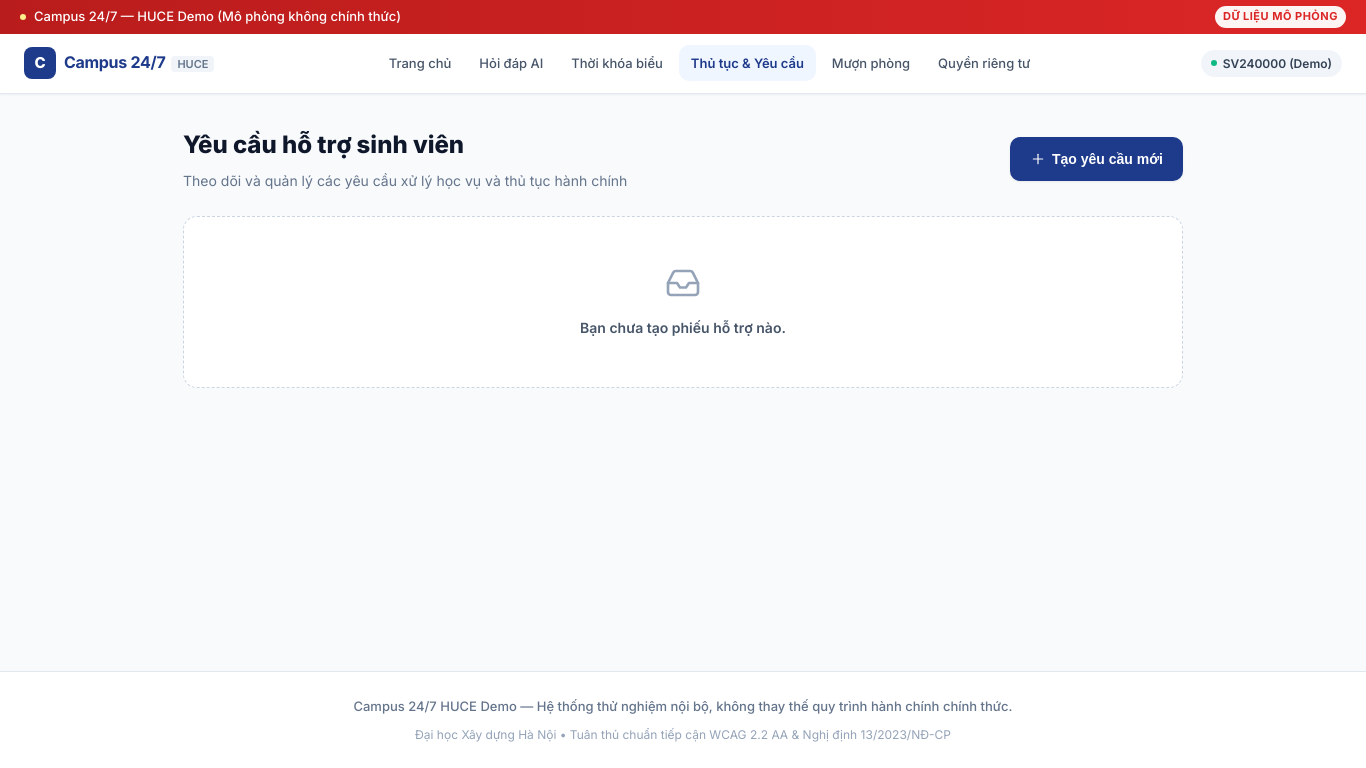
TicketsPage Component - Fail Honestly (TASK-WEB-TICK-003) › authoritative success renders real ticket from server response
This screenshot has width=1366, height=768.
Click the button "Tạo yêu cầu mới" at {"x": 1096, "y": 159}, box [1010, 137, 1183, 181]
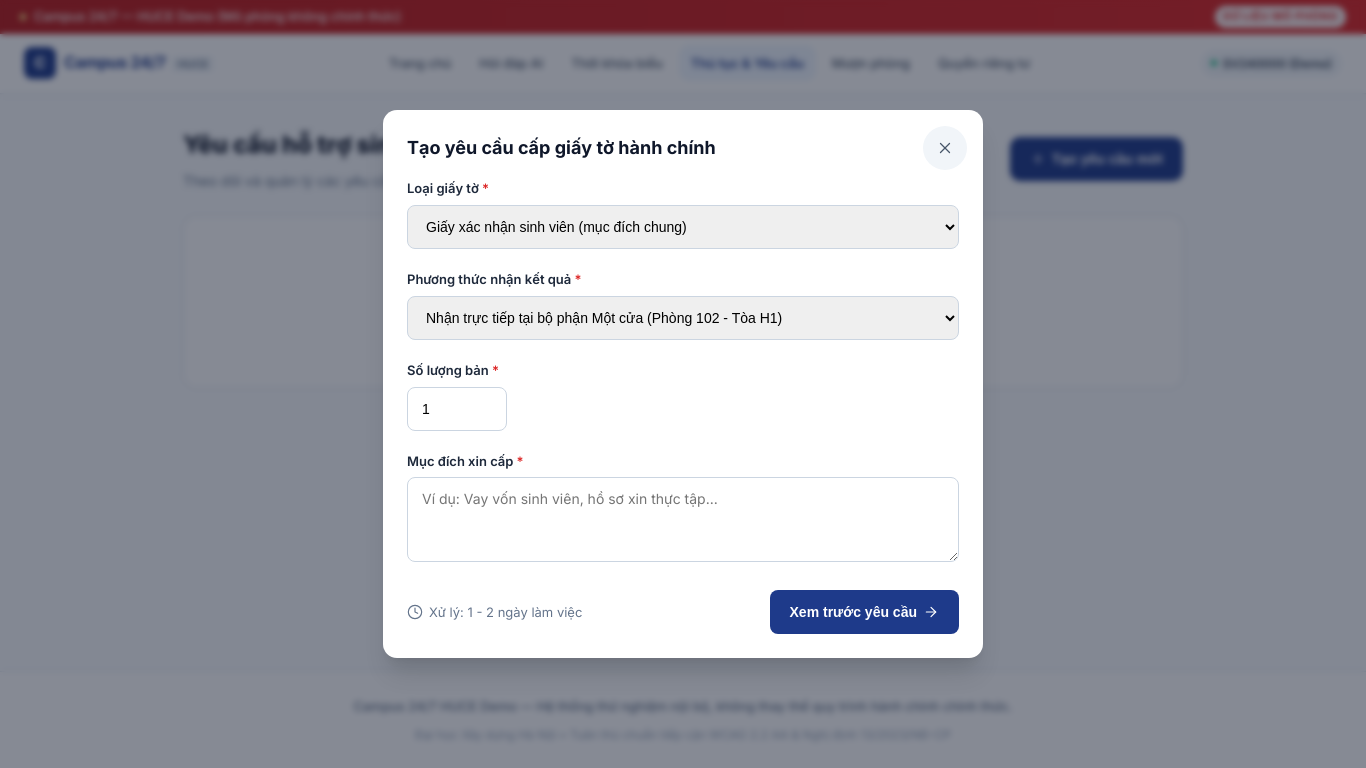
Type "Làm thẻ căn cước" into the text box labelled "Mục đích xin cấp *" at {"x": 683, "y": 520}, box [407, 478, 959, 562]
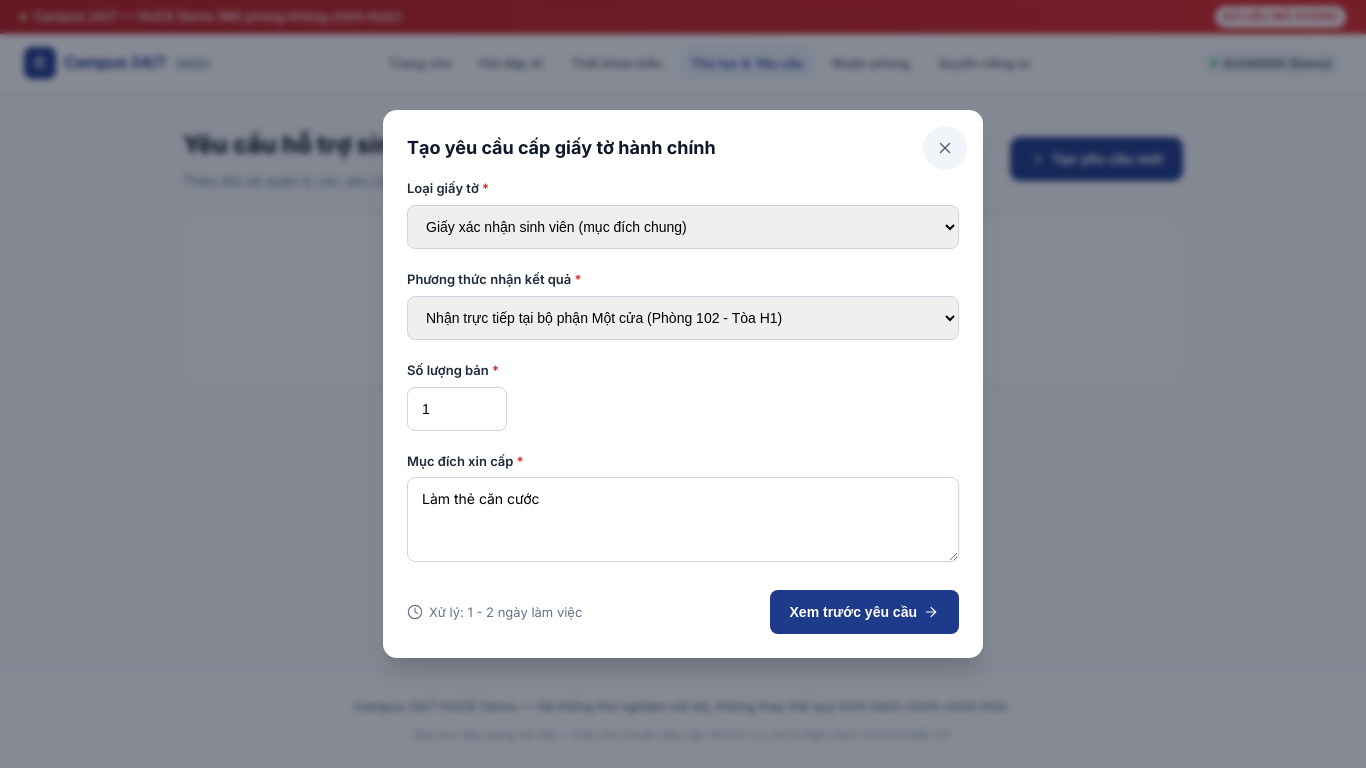
Click the button "Xem trước yêu cầu" at {"x": 864, "y": 612}, box [770, 590, 959, 634]
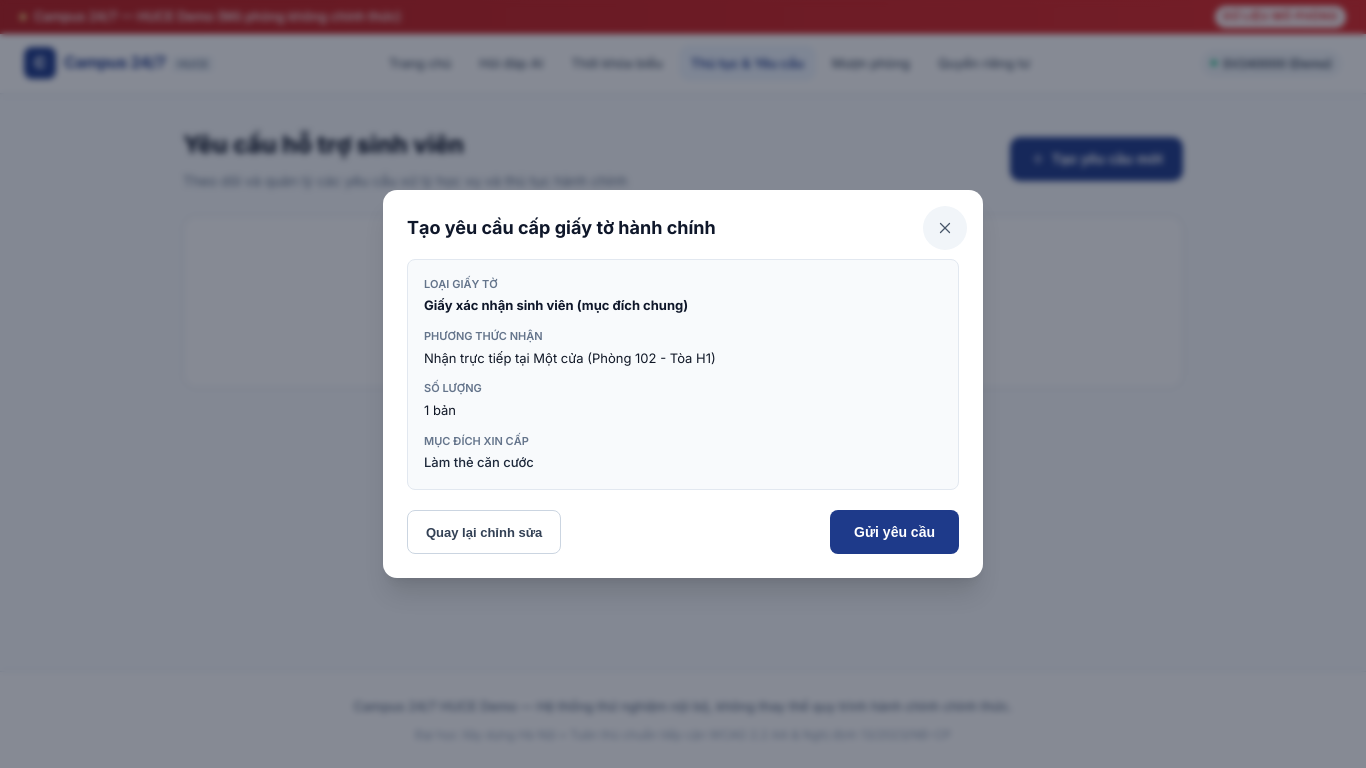
Click the button "Gửi yêu cầu" at {"x": 894, "y": 532}, box [830, 510, 959, 554]
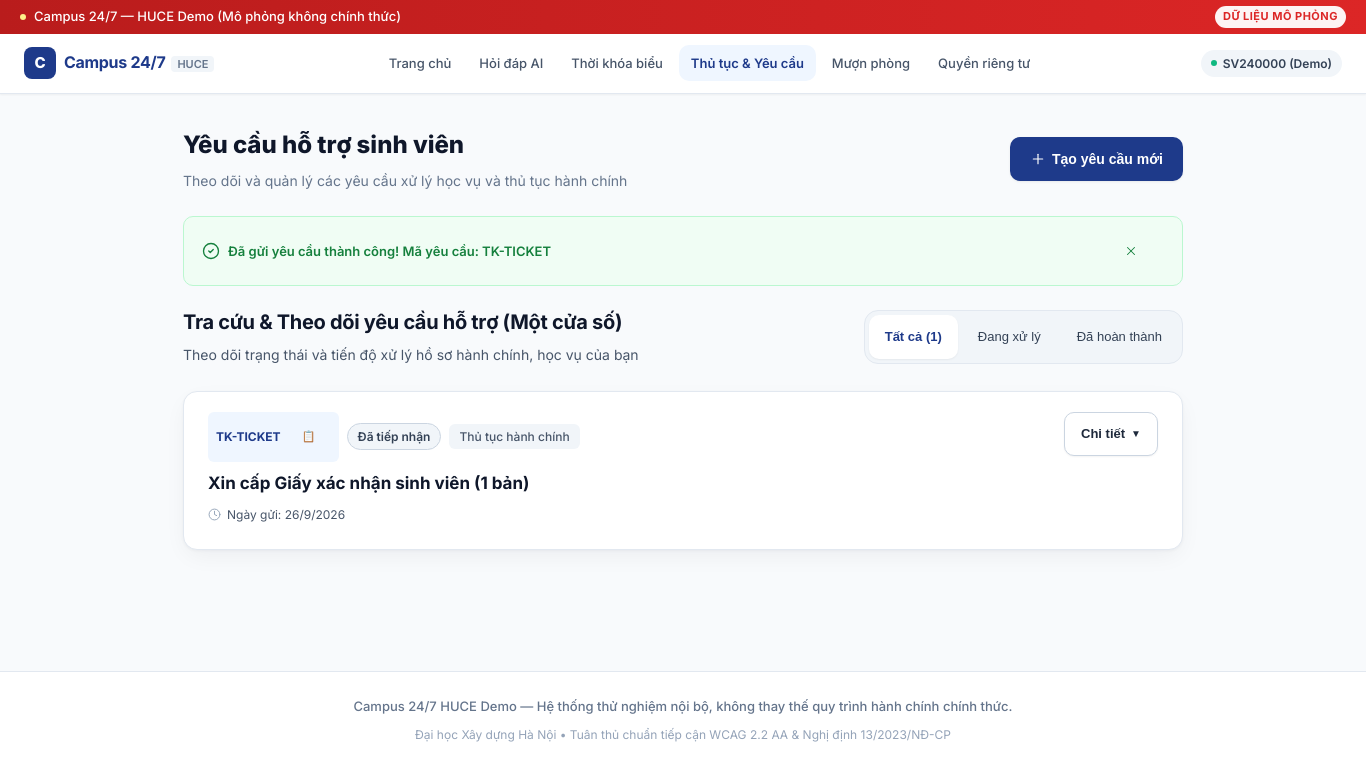
Now the text "Đã gửi yêu cầu thành công! Mã yêu cầu: TK-TICKET" is shown, box [228, 241, 551, 262]
Now the text "TK-TICKET" is shown, box [216, 427, 281, 446]
